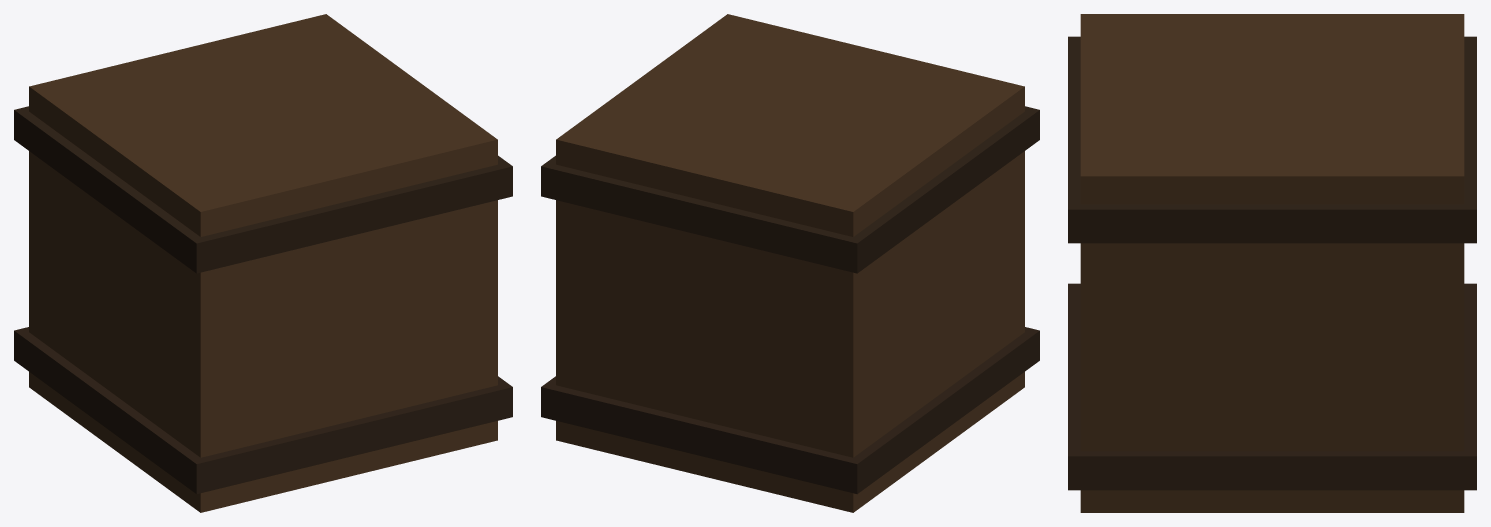
The model's file is crate.glb.
The picture shows the model from 3 angles, left to right: view 1: azimuth 30°, elevation 25°; view 2: azimuth 150°, elevation 25°; view 3: azimuth 270°, elevation 25°; orthographic projection. The views are drawn at different scales.
Visible parts, largest first — view 1: Crate; view 2: Crate; view 3: Crate.
Part boxes in pixels (<box>): Crate: <box>14,14,512,512</box>; Crate: <box>541,14,1039,512</box>; Crate: <box>1068,14,1476,512</box>.
Bounding box in the file's own units: 0.66 × 0.6 × 0.66.
